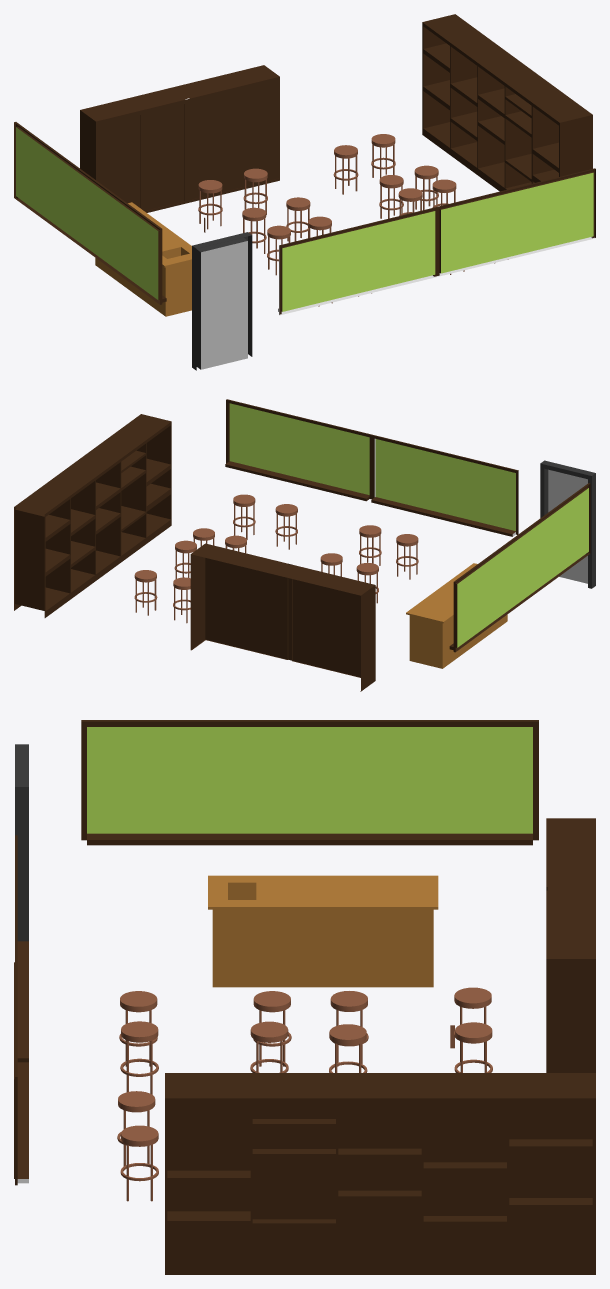
Rendered from mainscene.glb.
The picture shows the model from 3 angles, top to bottom: view 1: azimuth 30°, elevation 25°; view 2: azimuth 150°, elevation 25°; view 3: azimuth 270°, elevation 25°; orthographic projection. The views are drawn at different scales.
Parts seen in each view (by area): view 1: Object_2.019, Object_2.016, Object_2.017, Object_2.020, Object_2.011, seats, Object_2.015; view 2: Object_2.017, Object_2.019, Object_2.016, Object_2.020, seats, Object_2.015, Object_2.011; view 3: Object_2.017, Object_2.020, Object_2.015, Object_2.016, seats, Object_2.019, Object_2.011.
Part boxes in pixels (x1,y1,x2,y2): Object_2.019: (278, 168, 595, 315); Object_2.016: (80, 65, 279, 212); Object_2.017: (422, 14, 592, 191); Object_2.020: (14, 122, 166, 304); Object_2.011: (192, 232, 252, 370); seats: (198, 134, 508, 306); Object_2.015: (95, 202, 191, 316); Object_2.017: (14, 414, 171, 617); Object_2.019: (225, 399, 518, 536); Object_2.016: (190, 543, 375, 691); Object_2.020: (449, 483, 590, 652); seats: (134, 494, 418, 623); Object_2.015: (406, 563, 507, 668); Object_2.011: (540, 460, 595, 588); Object_2.017: (165, 1073, 595, 1274); Object_2.020: (81, 720, 538, 845); Object_2.015: (208, 875, 438, 987); Object_2.016: (546, 818, 595, 1072); seats: (117, 987, 492, 1201); Object_2.019: (14, 835, 28, 1185); Object_2.011: (15, 744, 28, 941).
Size of the model in its own units: 8.88 by 2.4 by 6.22.
Materials: 1 (1 with a texture image).
